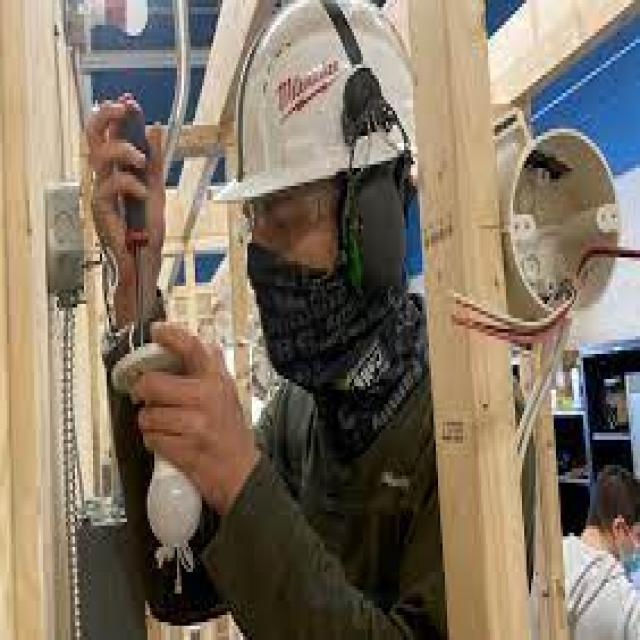screwdriver: (112, 84, 156, 356)
